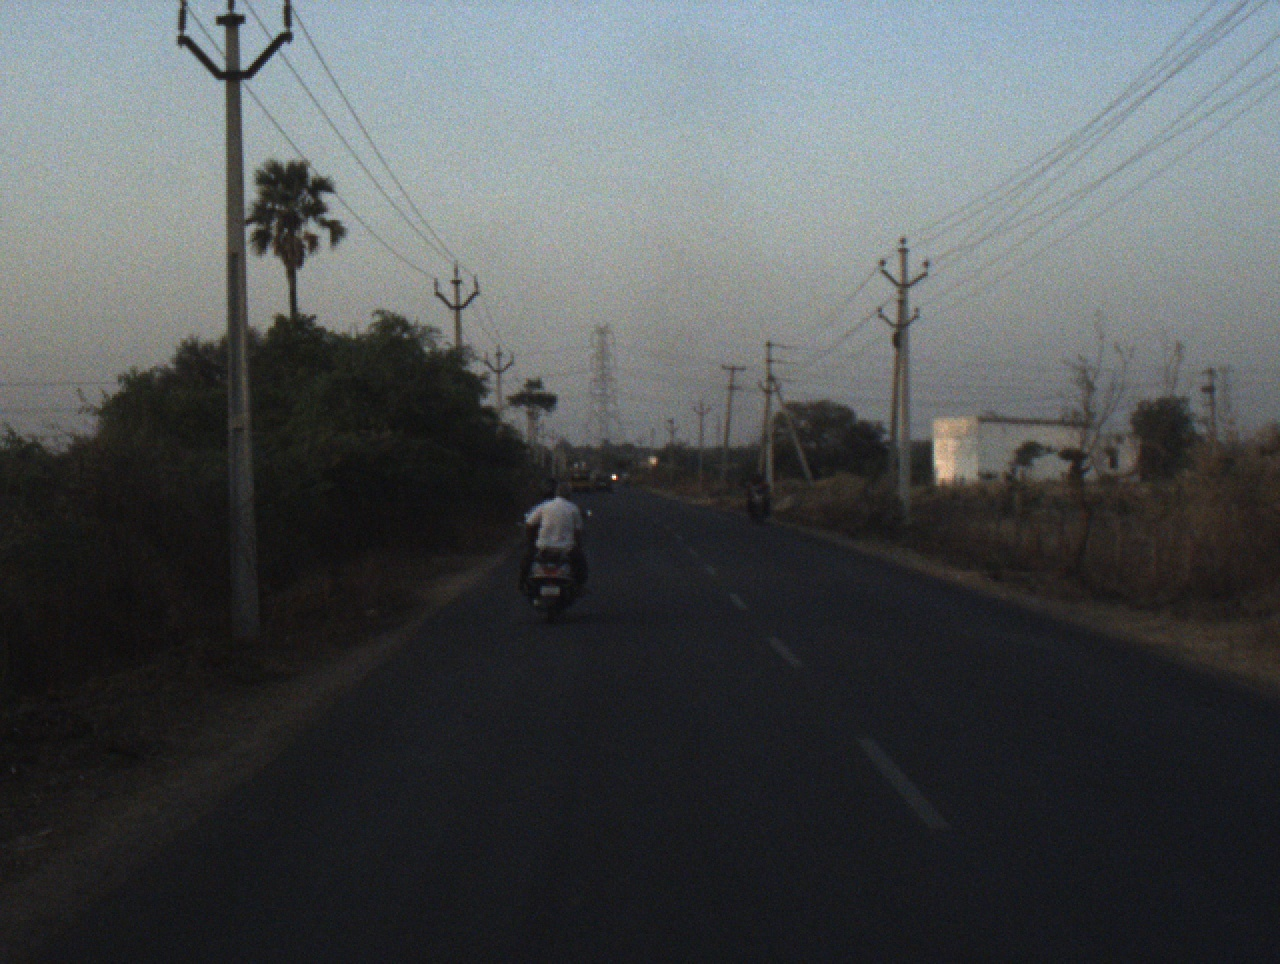autorickshaw: (570, 461, 592, 493)
car: (594, 472, 615, 492)
motorcycle: (520, 507, 594, 623), (747, 491, 774, 523)
rider: (517, 483, 588, 602), (744, 467, 773, 514), (527, 475, 558, 517)
vehicle fallback: (608, 468, 622, 485)
